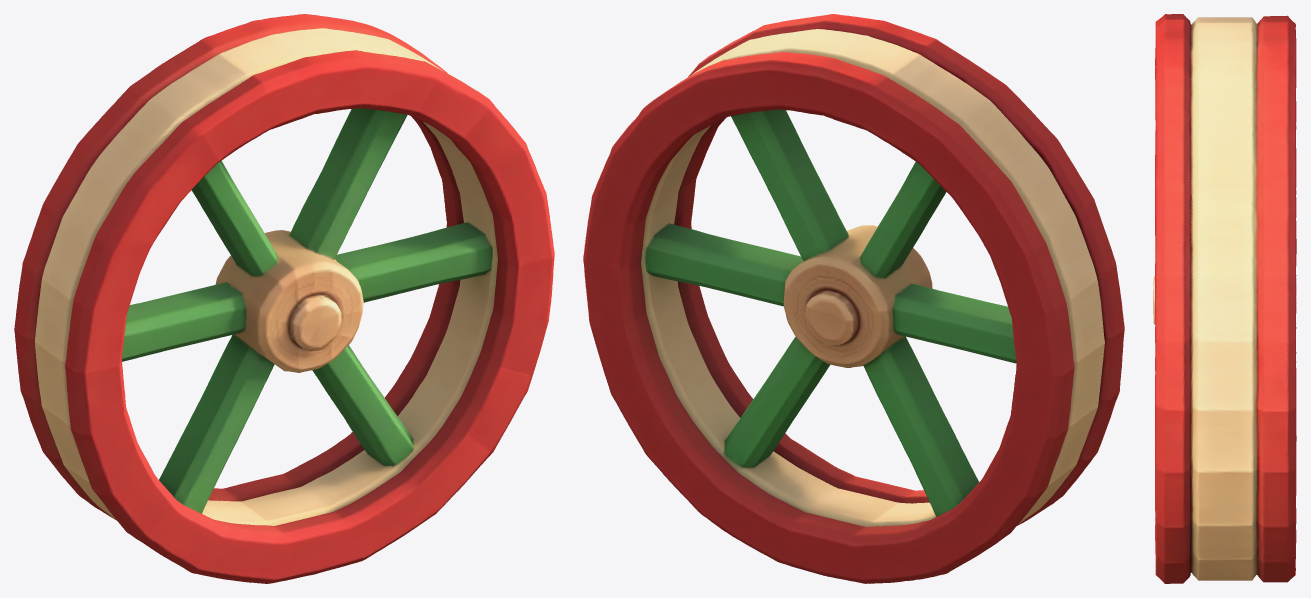
Rendered from base_basic_shaded.fbx.
3 renders of one model, left to right at view 1: azimuth 30°, elevation 25°; view 2: azimuth 150°, elevation 25°; view 3: azimuth 270°, elevation 25°, orthographic.
Visible parts, largest first — view 1: model; view 2: model; view 3: model.
Boxes of the visible parts, x1,y1,x2,y2 form: model: (14, 14, 554, 583); model: (583, 14, 1124, 583); model: (1153, 14, 1296, 583).
Size of the model in its own units: 174 by 177 by 44.53.
